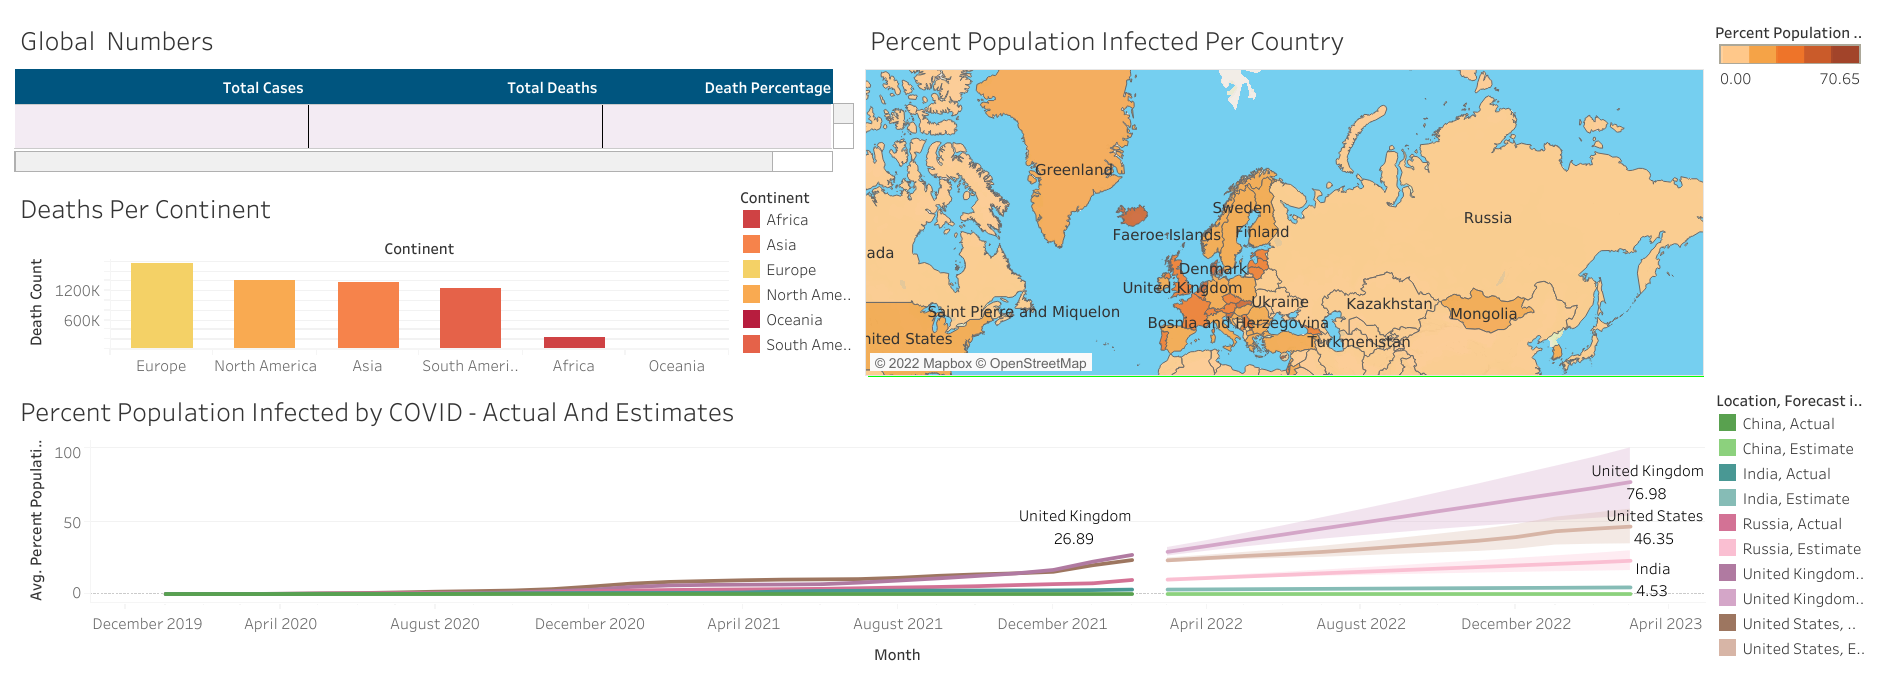

The dashboard page shown, as its layout file describes it:
{"tool":"tableau","page":{"name":"Dashboard 1","canvas":[1000,1000],"units":"permille","ordinal":0},"visuals":[{"type":"worksheet","title":"Sheet 1","mark":"Automatic","box":[4.8,9.4,452.3,245.4]},{"type":"worksheet","title":"Sheet 3","mark":"Automatic","box":[457.2,9.4,452.3,545.2]},{"type":"legend","title":"Sheet 3","param":"[federated.05833de0l2zw6c0zy42260ybeg6e].[sum:PercentPopulationInfected:qk]","box":[909.5,9.4,85.7,85.8]},{"type":"worksheet","title":"Sheet 2","mark":"Automatic","rows":["TotalDeathCount"],"cols":["location"],"box":[4.8,254.8,384.8,299.9]},{"type":"legend","title":"Sheet 2","param":"[federated.0zrz8950dv0lrl1ekqbna1ax5f2w].[none:location:nk]","box":[389.6,254.8,67.5,299.9]},{"type":"worksheet","title":"Sheet 4","mark":"Automatic","rows":["PercentPopulationInfected"],"cols":["date"],"box":[4.8,554.6,904.6,436]},{"type":"legend","title":"Sheet 4","param":"[federated.0r0w6dm1b8a1bg1cqd4st029ued0].[none:Location:nk]\n[federated.0r0w6dm1b","box":[909.5,554.6,85.7,436]}]}

Visuals, with their boxes on the dashboard's canvas, which has no fixed pixel size, in thousandths of its width and height (x1, y1, x2, y2). These are canvas units, not pixel positions in the 1880x688 screenshot, which may show the page scaled, cropped or inside an application window:
"Sheet 1" worksheet: <bbox>5, 9, 457, 255</bbox>
"Sheet 3" worksheet: <bbox>457, 9, 910, 555</bbox>
"Sheet 3" legend: <bbox>910, 9, 995, 95</bbox>
"Sheet 2" worksheet: <bbox>5, 255, 390, 555</bbox>
"Sheet 2" legend: <bbox>390, 255, 457, 555</bbox>
"Sheet 4" worksheet: <bbox>5, 555, 909, 991</bbox>
"Sheet 4" legend: <bbox>910, 555, 995, 991</bbox>
